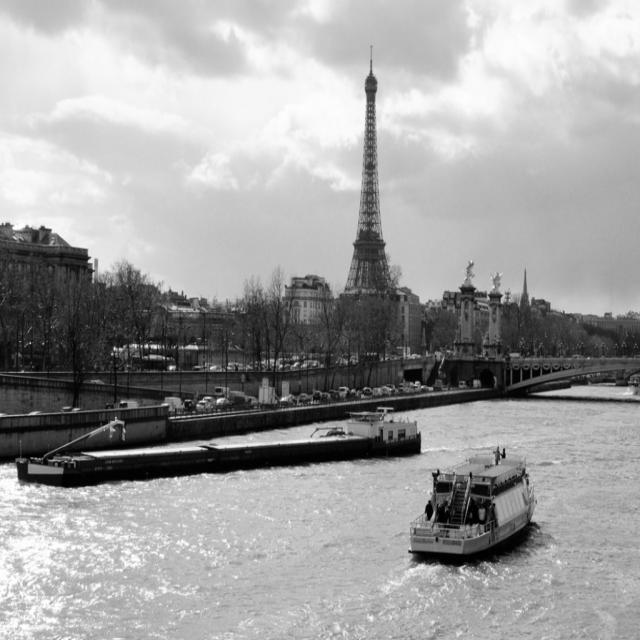Boat: (408, 441, 541, 569)
